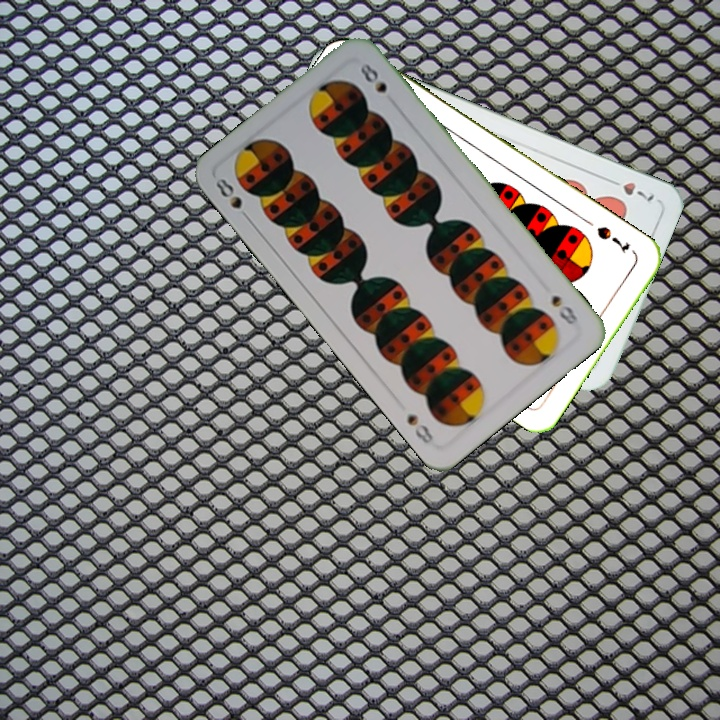H7: (602, 174, 657, 204)
S7: (593, 222, 632, 257)
S8: (211, 173, 254, 225), (547, 290, 581, 328)
